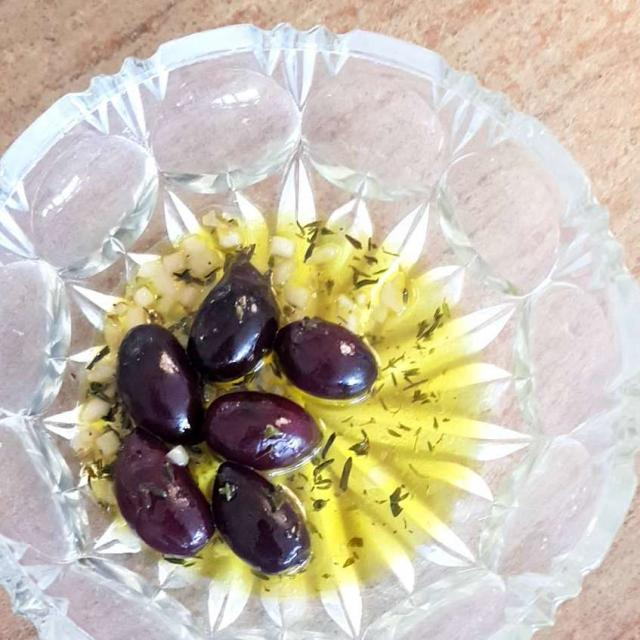black-olives: (119, 281, 378, 568)
